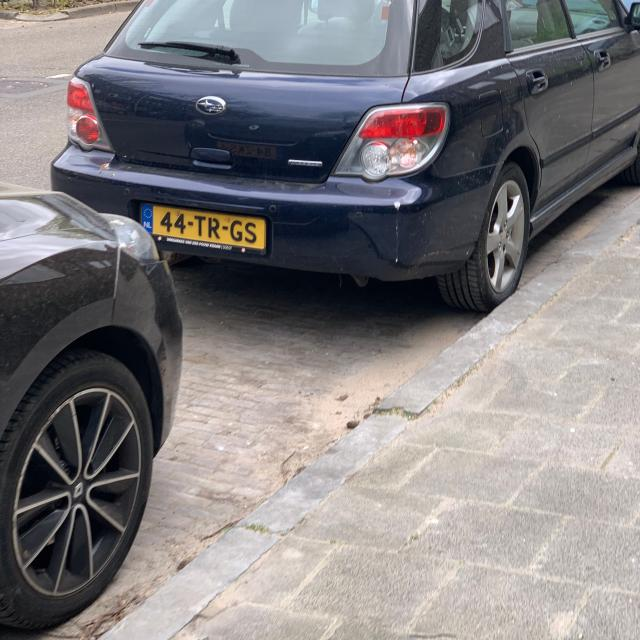plate: (138, 201, 269, 256)
